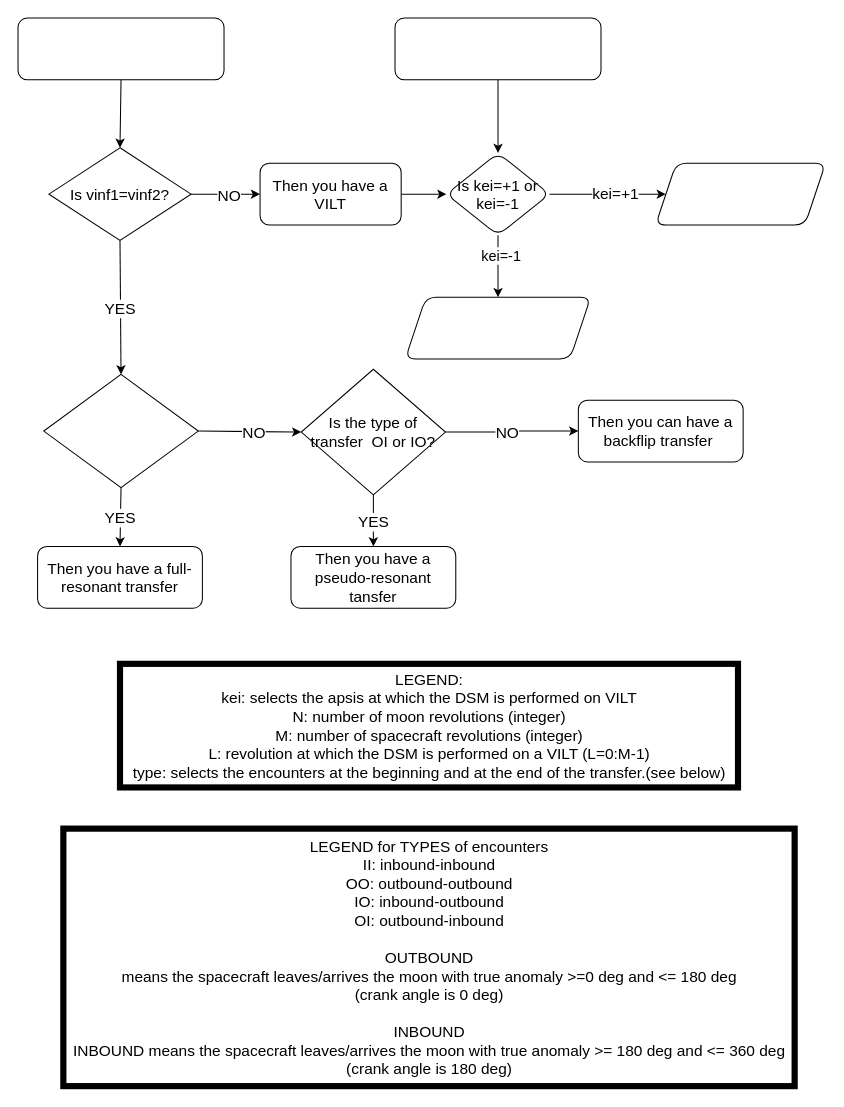
The diagram is 844 pixels wide and 1107 high, and some of its shapes have lost their labels. Here are the shapes that lost their labels. From the top down, the centre of each, then its label:
[120,48]: Select moon ID and vinf1, vinf2
[497,48]: Select, N, M, kei, type
[740,193]: Then the DSM is at apoapsis
[497,327]: Then the DSM is at periapsis
[120,430]: Is the type of transfer II or OO?
